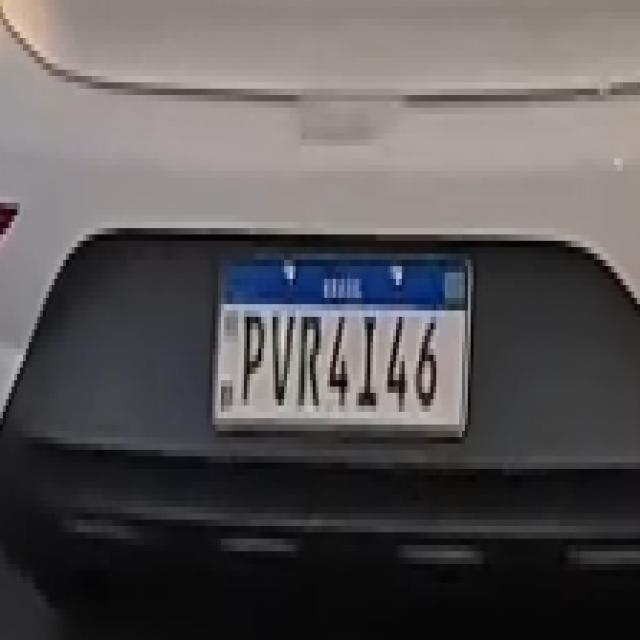Placa_mercosul_carro: (213, 252, 474, 439)
